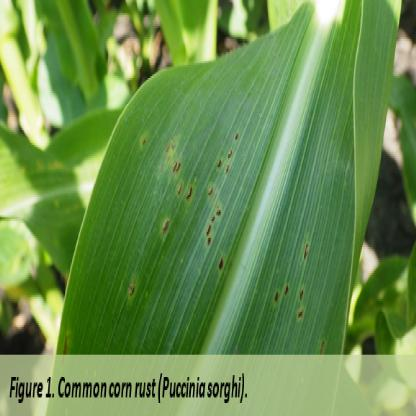Corn rust leaf: (56, 2, 407, 357)
